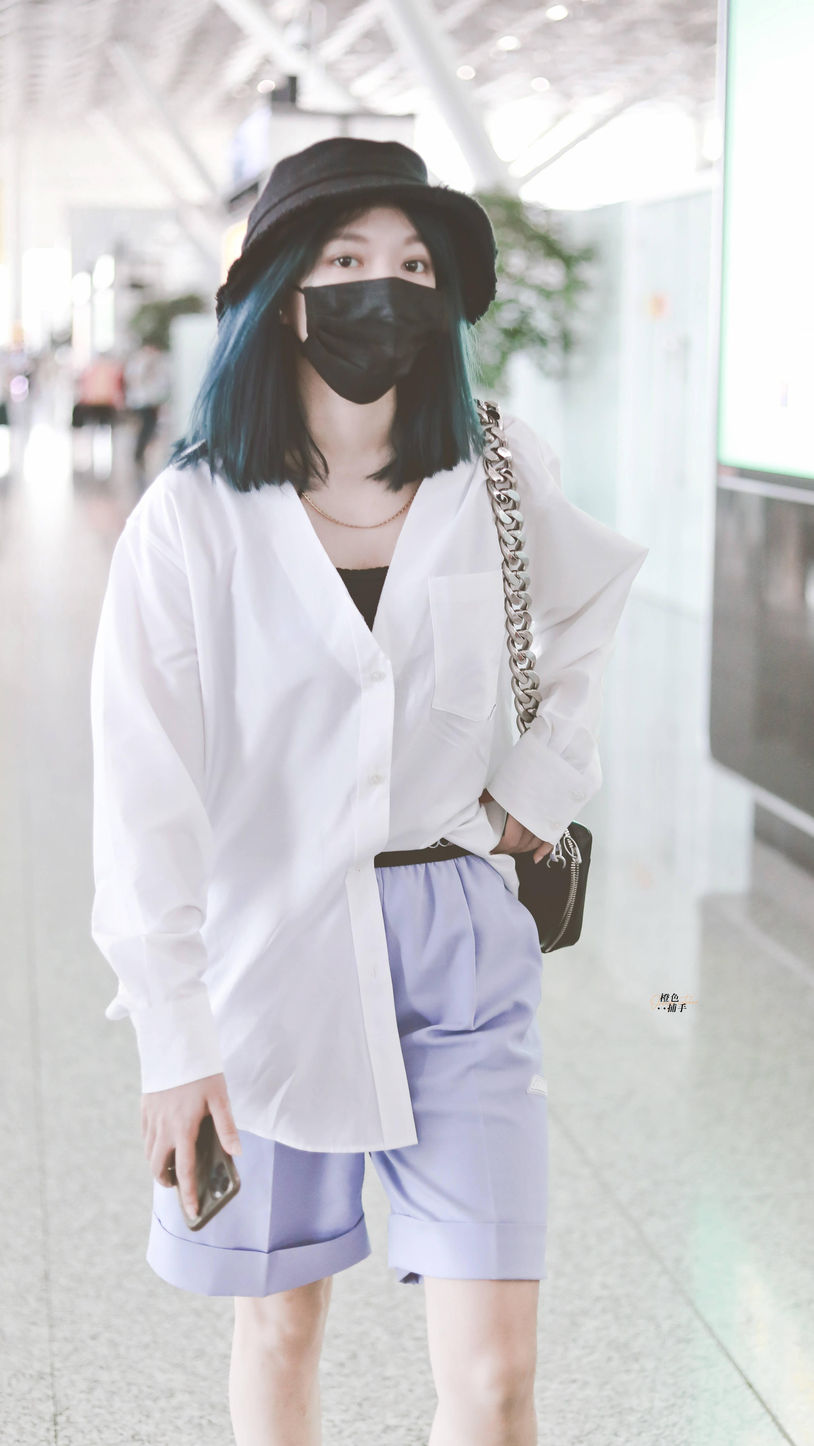OK: (299, 230, 435, 404)
